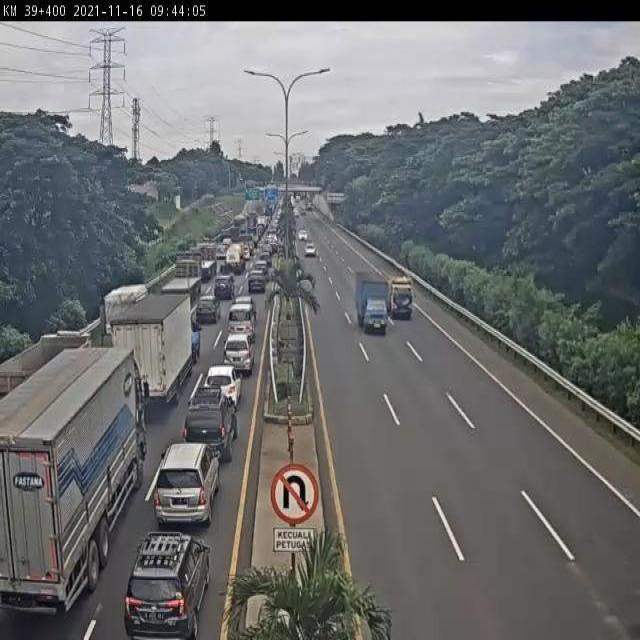Car: (124, 532, 213, 640), (154, 440, 220, 536), (182, 388, 234, 466), (199, 362, 243, 403), (225, 336, 252, 375), (198, 294, 221, 323), (213, 273, 234, 301), (248, 271, 265, 293), (302, 242, 316, 262), (254, 260, 268, 273), (299, 230, 311, 242)
Truck: (0, 343, 140, 614), (106, 288, 196, 407), (146, 252, 202, 299), (355, 271, 391, 339), (393, 267, 415, 321), (194, 243, 216, 280), (226, 244, 243, 273)
Van: (227, 304, 253, 344)
